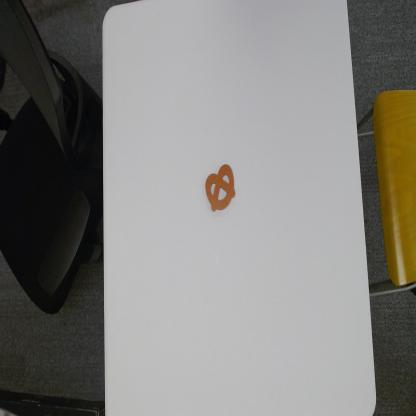Pretzel: (203, 164, 239, 214)
